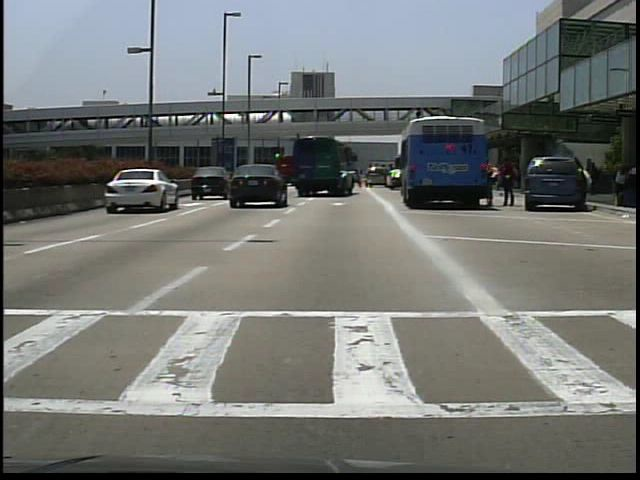person: (485, 155, 503, 208), (500, 158, 517, 206), (578, 164, 596, 203)
